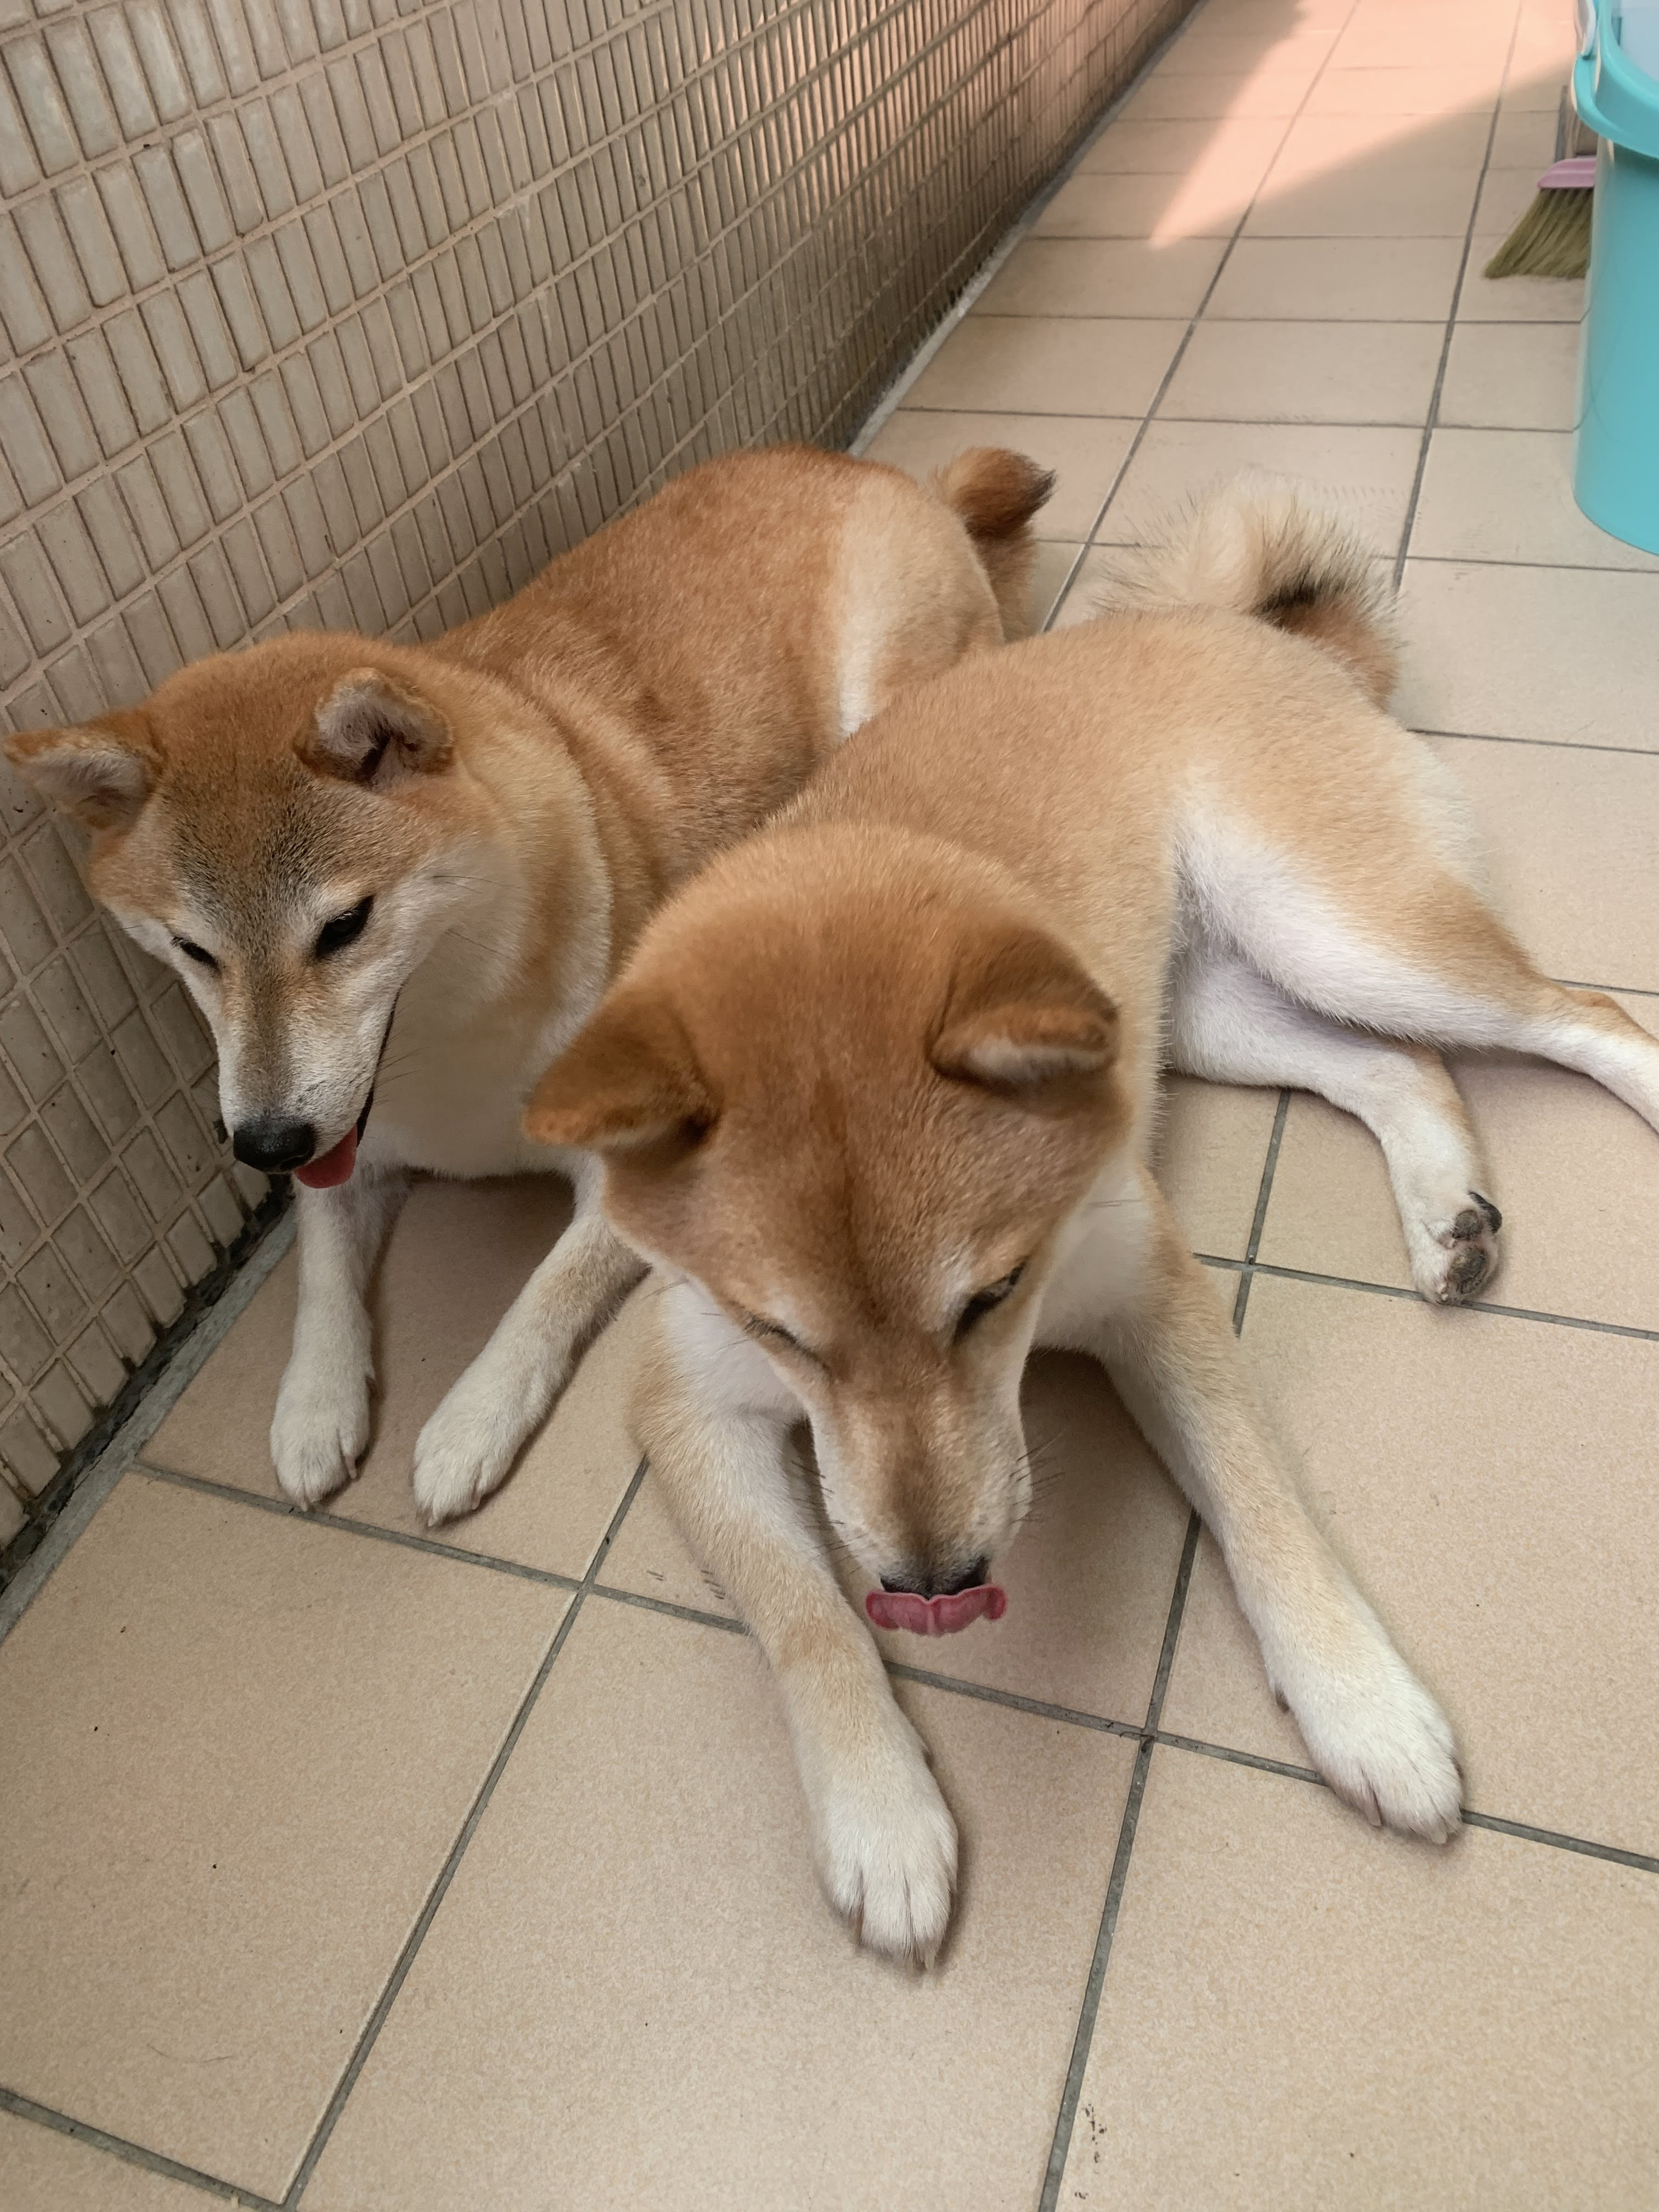Get down: (580, 503, 1643, 1928), (66, 395, 903, 1521)
